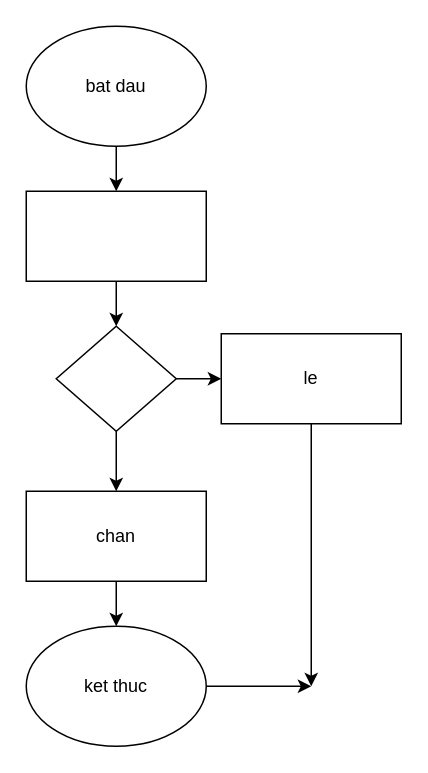
Some shapes in this 428 by 773 pixel diagram are drawn without their labels. The shapes that lost their labels are listed below. From the top down, each one's centre as x and y in pixels, then its label:
At pixel 115 235: "so nguyen".
At pixel 115 378: "n%2=0".
